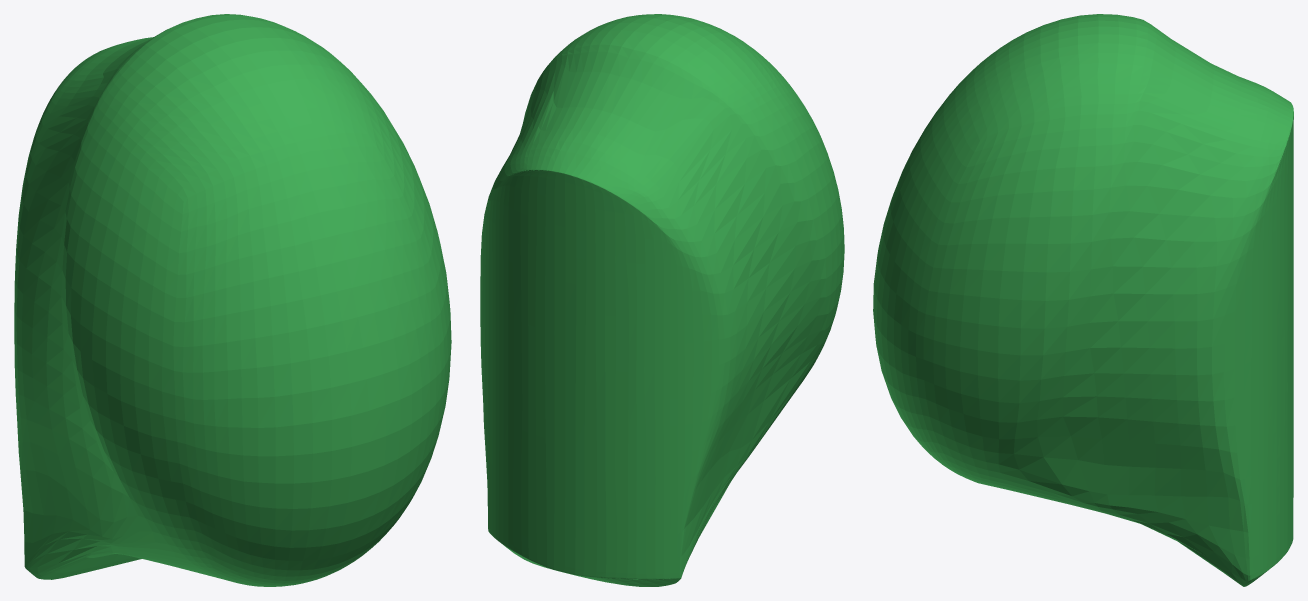
The model's file is f_distal_bt_sp.obj.
The picture shows the model from 3 angles, left to right: view 1: azimuth 30°, elevation 25°; view 2: azimuth 150°, elevation 25°; view 3: azimuth 270°, elevation 25°; orthographic projection. The views are drawn at different scales.
Visible parts, largest first — view 1: f_distal_bt_sp; view 2: f_distal_bt_sp; view 3: f_distal_bt_sp.
Boxes of the visible parts, <box> form: f_distal_bt_sp: <box>14,14,451,586</box>; f_distal_bt_sp: <box>480,14,844,586</box>; f_distal_bt_sp: <box>873,14,1293,586</box>.
Bounding box in the file's own units: 19.65 × 31.92 × 23.38.
